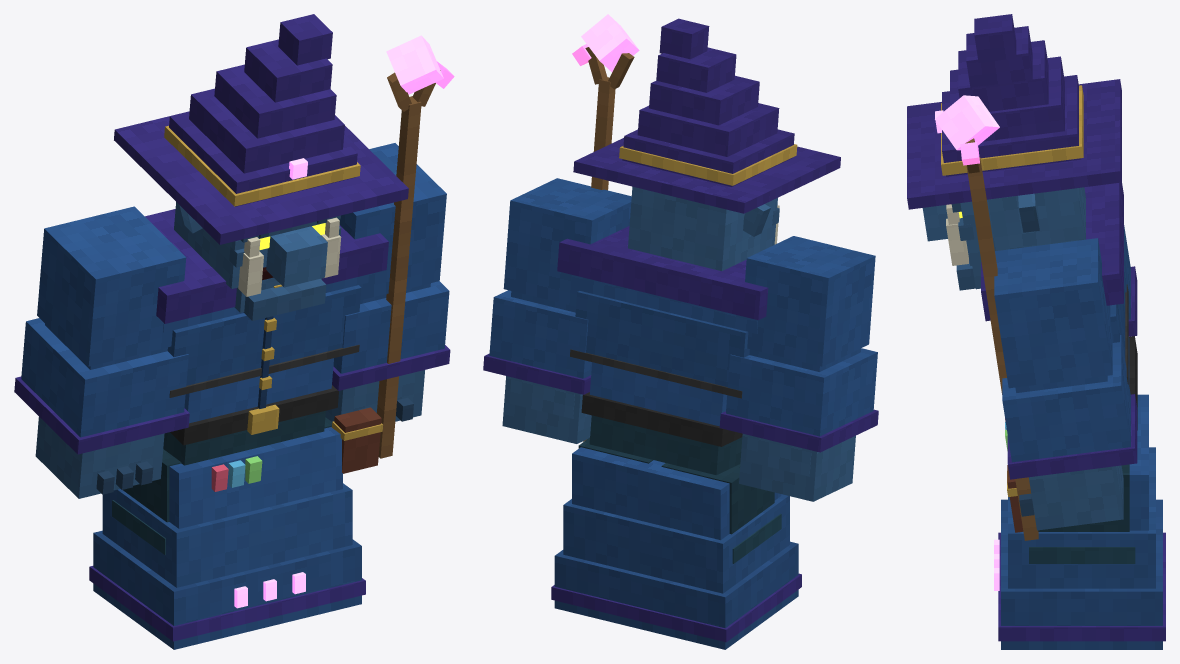
File: ogre_mage.glb
3 views of the same model, side by side, from view 1: azimuth 30°, elevation 25°; view 2: azimuth 150°, elevation 25°; view 3: azimuth 270°, elevation 25° (orthographic). The views are drawn at different scales.
Visible parts, largest first — view 1: Head, Root, ArmR, Torso, ArmL, HandL, LegR; view 2: Root, Torso, Head, ArmR, ArmL, HandL, LegR; view 3: Head, ArmL, Root, Torso, HandL, LegL, ArmR.
Boxes of the visible parts, x1=… form: Head: x1=114, y1=14, x2=408, y2=320; Root: x1=89, y1=427, x2=365, y2=649; ArmR: x1=14, y1=206, x2=189, y2=498; Torso: x1=145, y1=209, x2=388, y2=491; ArmL: x1=325, y1=143, x2=450, y2=421; HandL: x1=377, y1=35, x2=454, y2=458; LegR: x1=112, y1=449, x2=181, y2=554; Root: x1=551, y1=447, x2=801, y2=649; Torso: x1=557, y1=226, x2=768, y2=475; Head: x1=573, y1=18, x2=840, y2=271; ArmR: x1=719, y1=236, x2=878, y2=501; ArmL: x1=483, y1=178, x2=631, y2=443; HandL: x1=572, y1=14, x2=639, y2=441; LegR: x1=661, y1=463, x2=781, y2=563; Head: x1=907, y1=14, x2=1121, y2=290; ArmL: x1=994, y1=238, x2=1137, y2=530; Root: x1=994, y1=394, x2=1165, y2=649; Torso: x1=981, y1=182, x2=1137, y2=532; HandL: x1=935, y1=95, x2=1038, y2=540; LegL: x1=1029, y1=464, x2=1135, y2=563; ArmR: x1=1124, y1=225, x2=1137, y2=336.
Bounding box in the file's own units: 1.54 × 2.36 × 0.9262.
40 materials, 40 textured.
